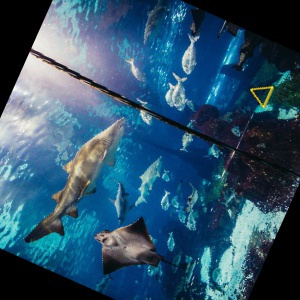triangle: (248, 81, 274, 110)
